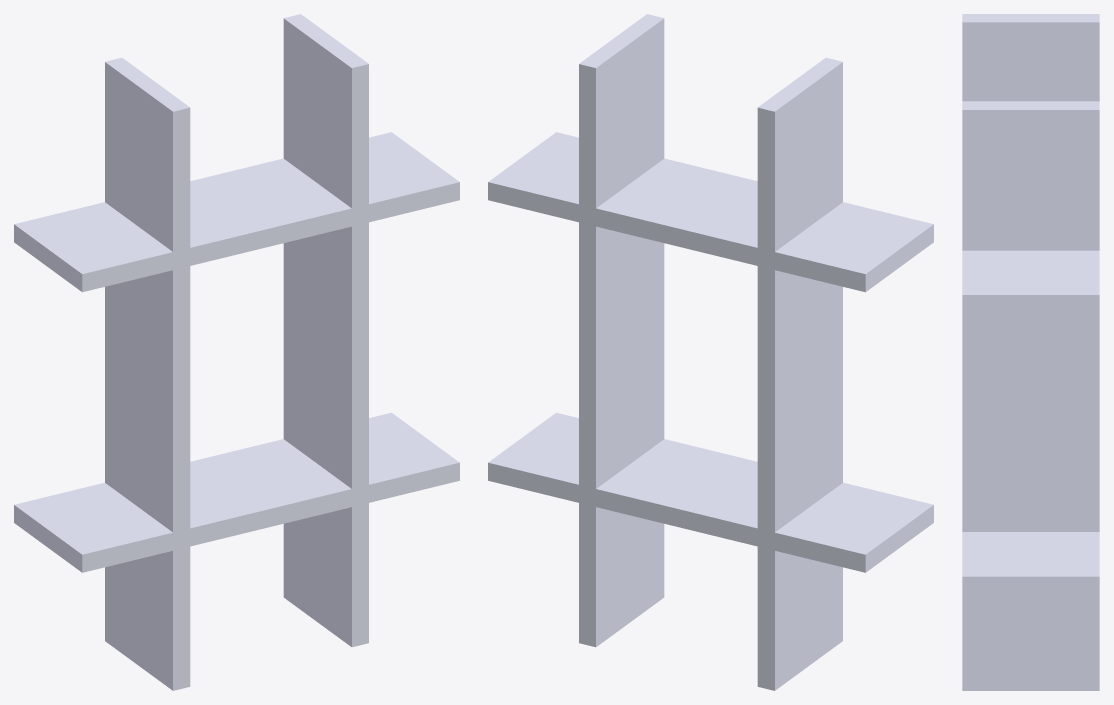
3 views of the same model, side by side, from view 1: azimuth 30°, elevation 25°; view 2: azimuth 150°, elevation 25°; view 3: azimuth 270°, elevation 25° (orthographic).
Parts seen in each view (by area): view 1: #_AlphaProta_Grey; view 2: #_AlphaProta_Grey; view 3: #_AlphaProta_Grey.
Boxes of the visible parts, x1,y1,x2,y2 form: #_AlphaProta_Grey: [14, 14, 459, 690]; #_AlphaProta_Grey: [488, 14, 933, 690]; #_AlphaProta_Grey: [962, 14, 1099, 690].
Size of what is drawn, in the model's own units: 0.1436 by 0.2105 by 0.045.
2 materials, 2 textured.
